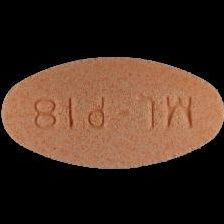60429-955: (0, 0, 224, 224)
